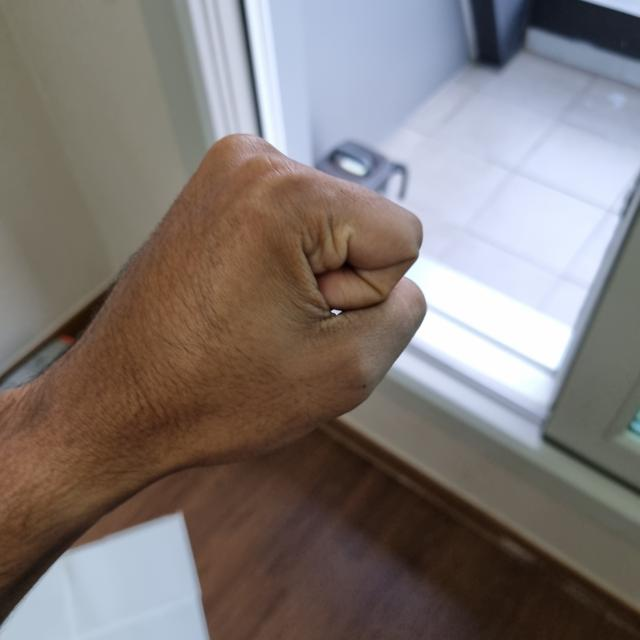Rock: (64, 131, 429, 467)
